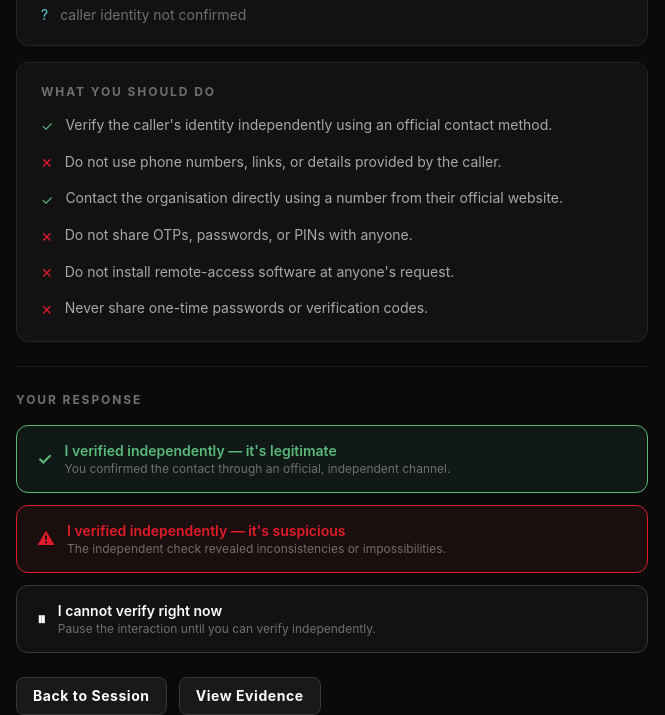
Test: VerifyPage › submits user response
(page scrolled)
Click the button "it's legitimate" at (332, 459), box [16,425,648,493]
(page scrolled)
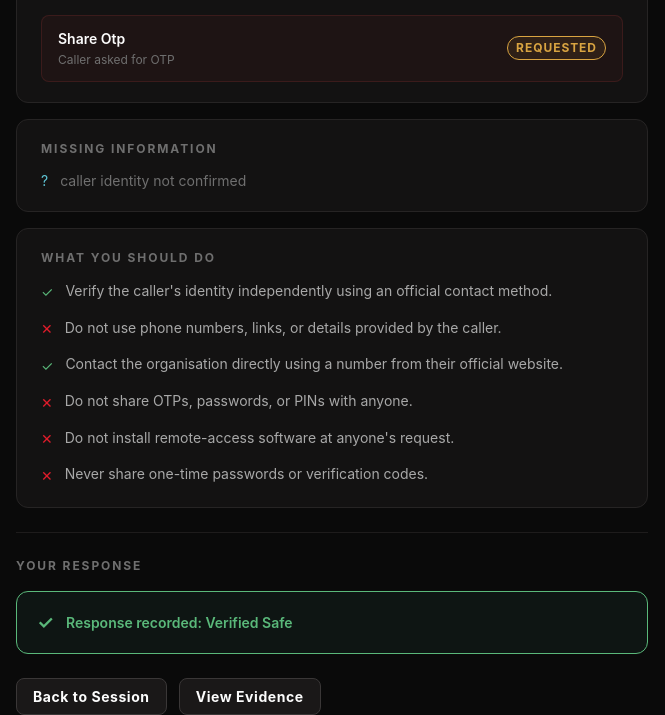
Check: the text "Response recorded: Verified Safe" is shown, box [66,612,293,633]
